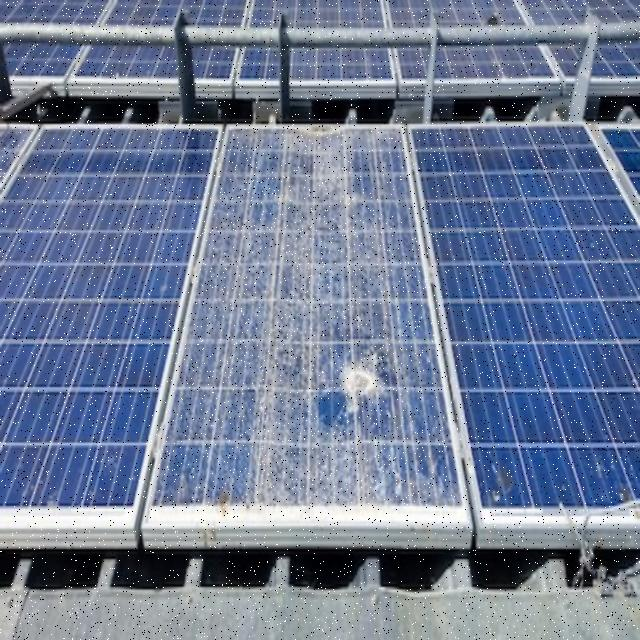physical damage: (152, 129, 459, 513)
